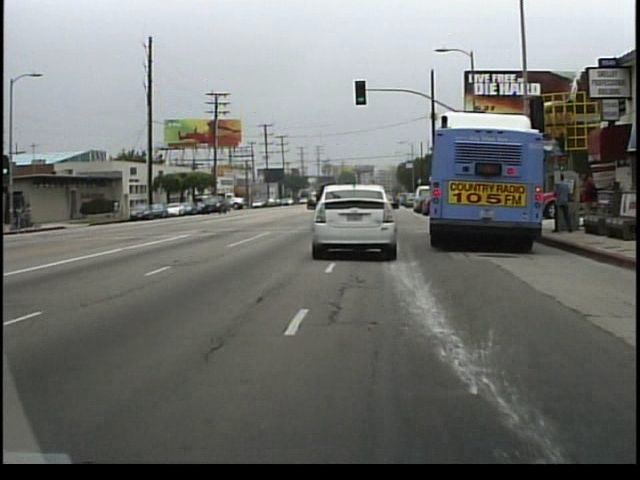person: (547, 171, 574, 237), (111, 195, 123, 219)
